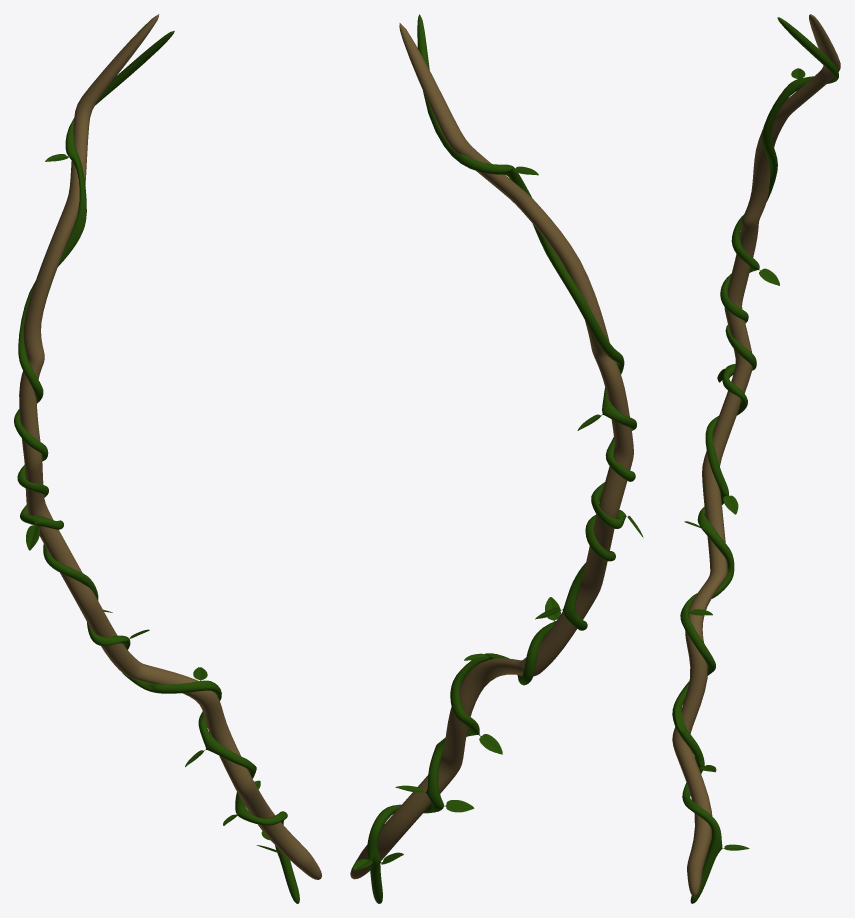
The model's file is vine.glb.
3 renders of one model, left to right at view 1: azimuth 30°, elevation 25°; view 2: azimuth 150°, elevation 25°; view 3: azimuth 270°, elevation 25°, orthographic. The views are drawn at different scales.
Parts seen in each view (by area): view 1: Vine_1, Vine_2; view 2: Vine_1, Vine_2; view 3: Vine_1, Vine_2.
Boxes of the visible parts, x1,y1,x2,y2 form: Vine_1: [19, 14, 321, 879]; Vine_2: [14, 30, 299, 903]; Vine_1: [350, 23, 633, 879]; Vine_2: [353, 14, 643, 903]; Vine_1: [672, 14, 840, 896]; Vine_2: [672, 17, 838, 903].
Size of the model in its own units: 15.21 by 44.79 by 8.02.
